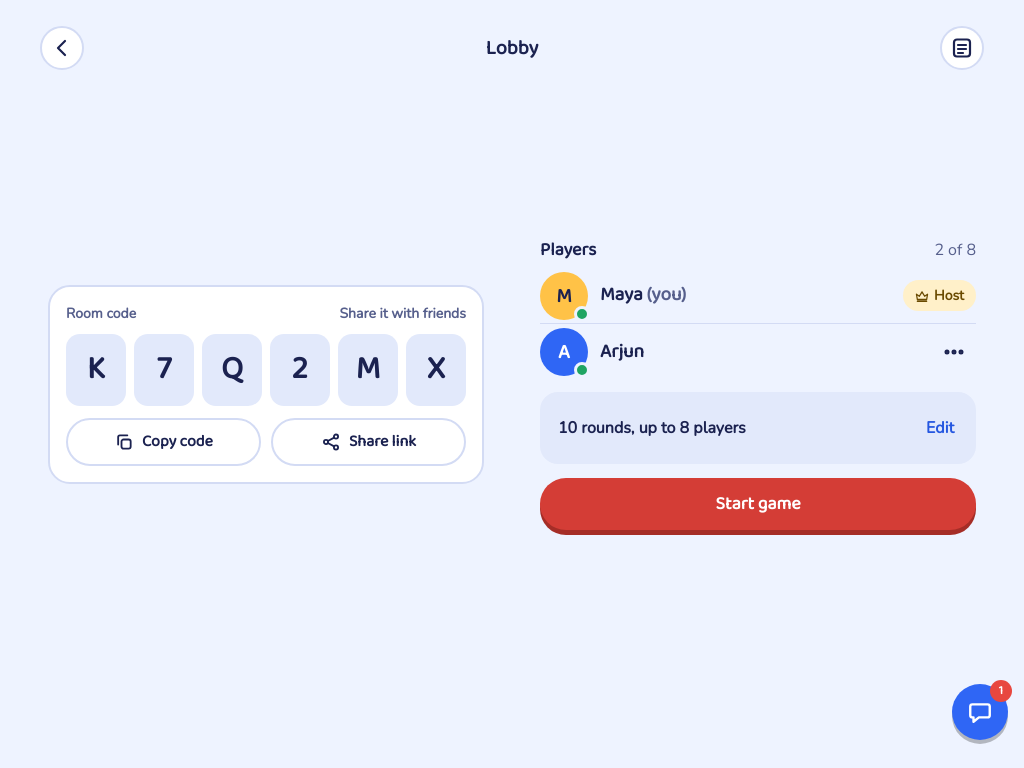
chat › report: choose a reason, add a note and send
Expected: the heading "Lobby" is shown, [486,36,538,60]
Click the button named "Open chat" at (980, 712), box [952,684,1008,740]
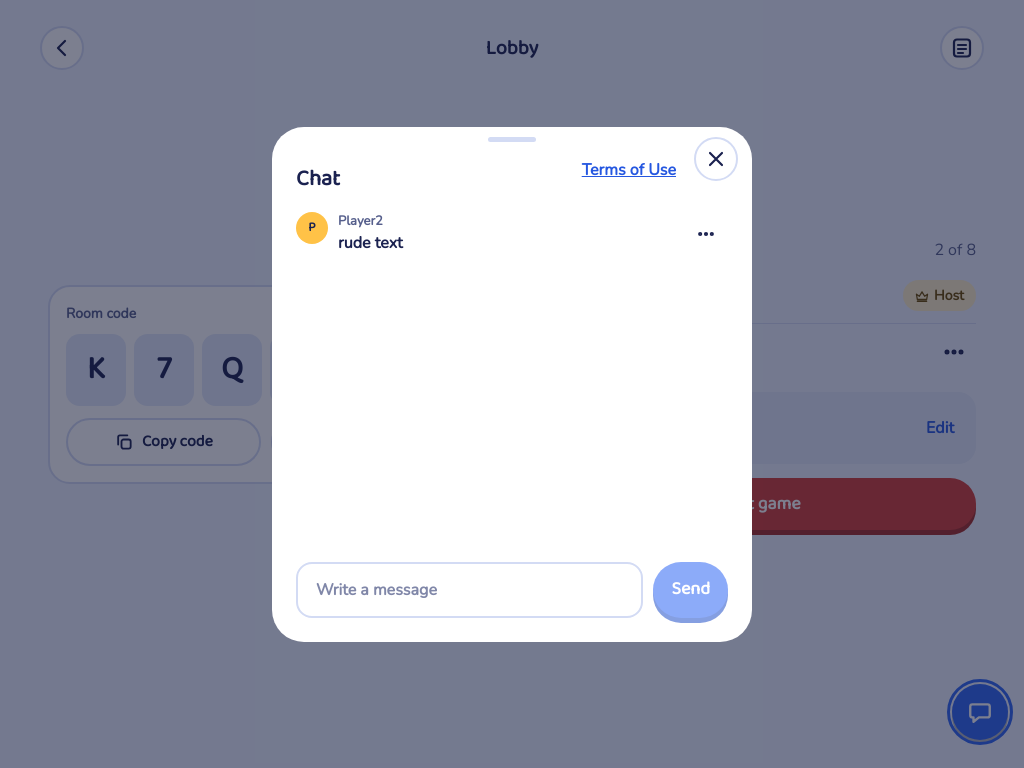
Click the button named "Actions for the message from Player2" at (706, 234), box [684,212,728,256]
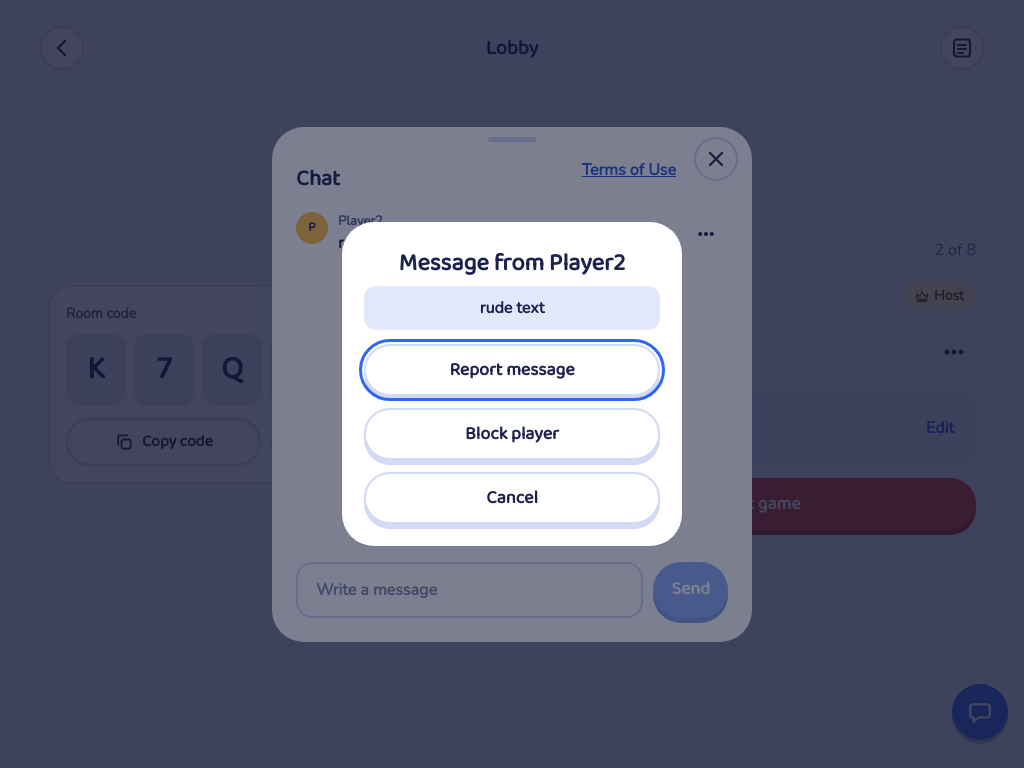
Click the button "Report message" at (512, 370), box [364,344,660,396]
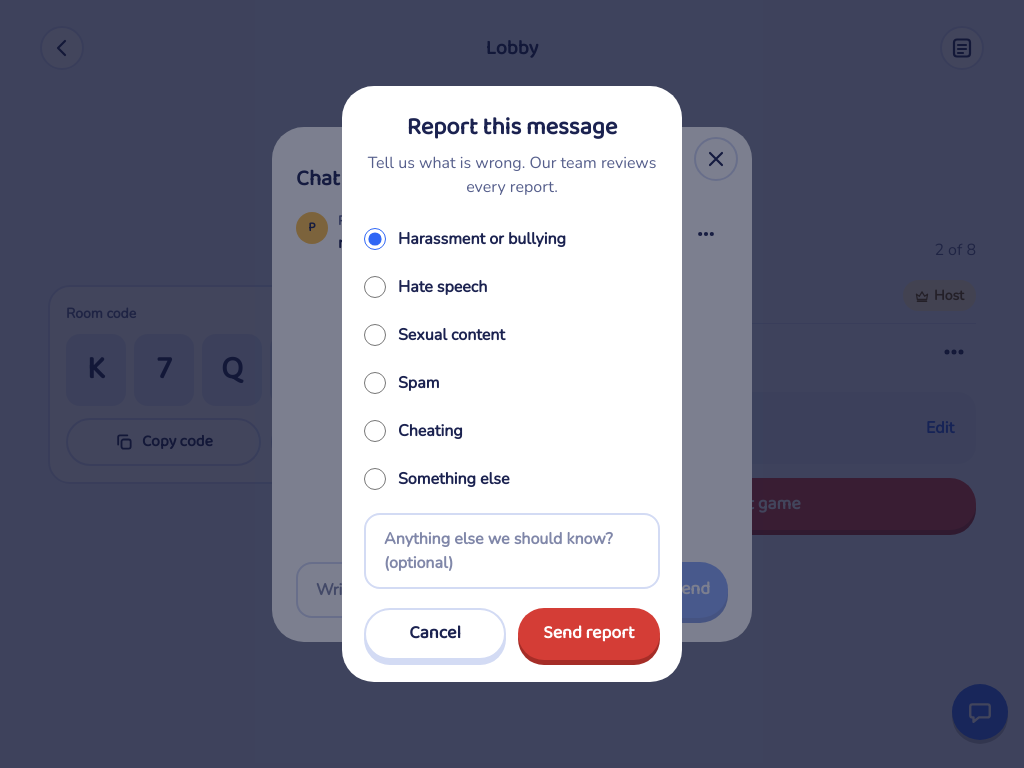
Click the radio button labelled "Hate speech" at (375, 287), box [364,276,386,298]
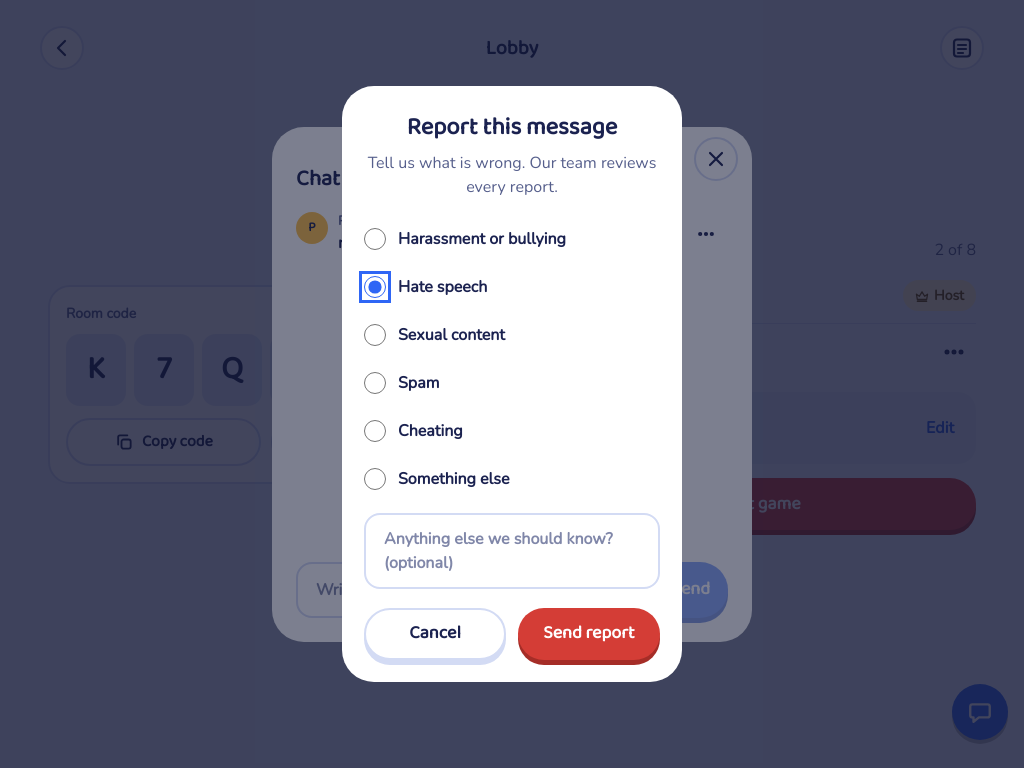
Type "please check" into the text box labelled "Anything else we should know? (optional)" at (512, 551), box [364,513,660,589]
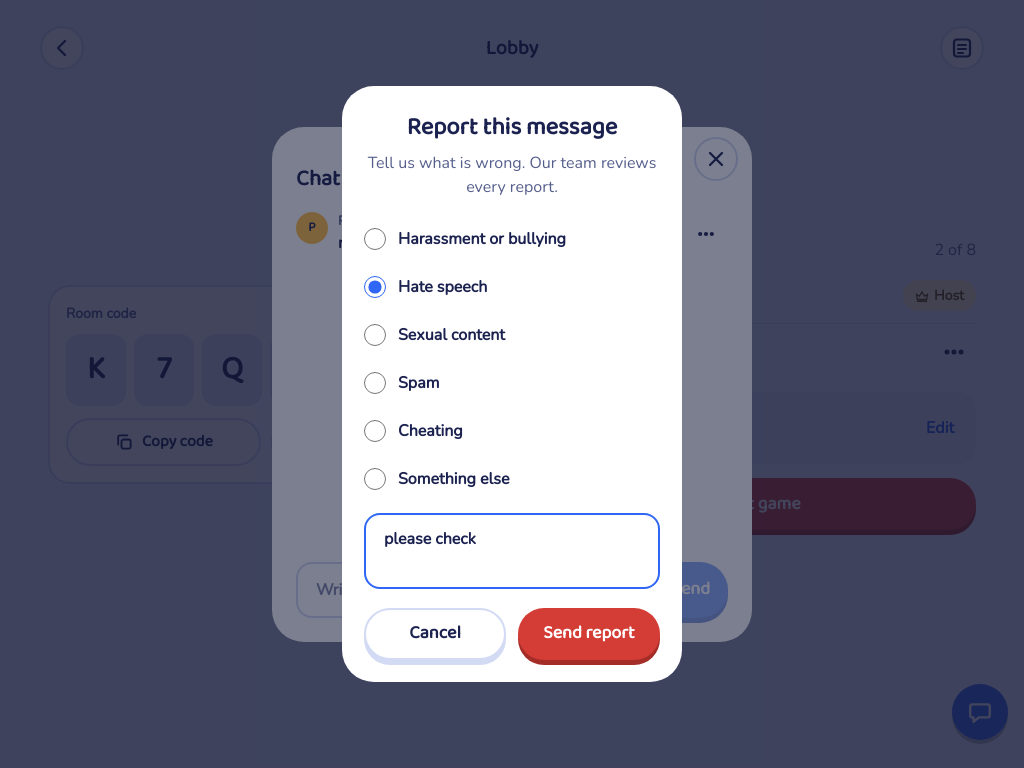
Click the button "Send report" at (589, 634), box [518,608,660,660]
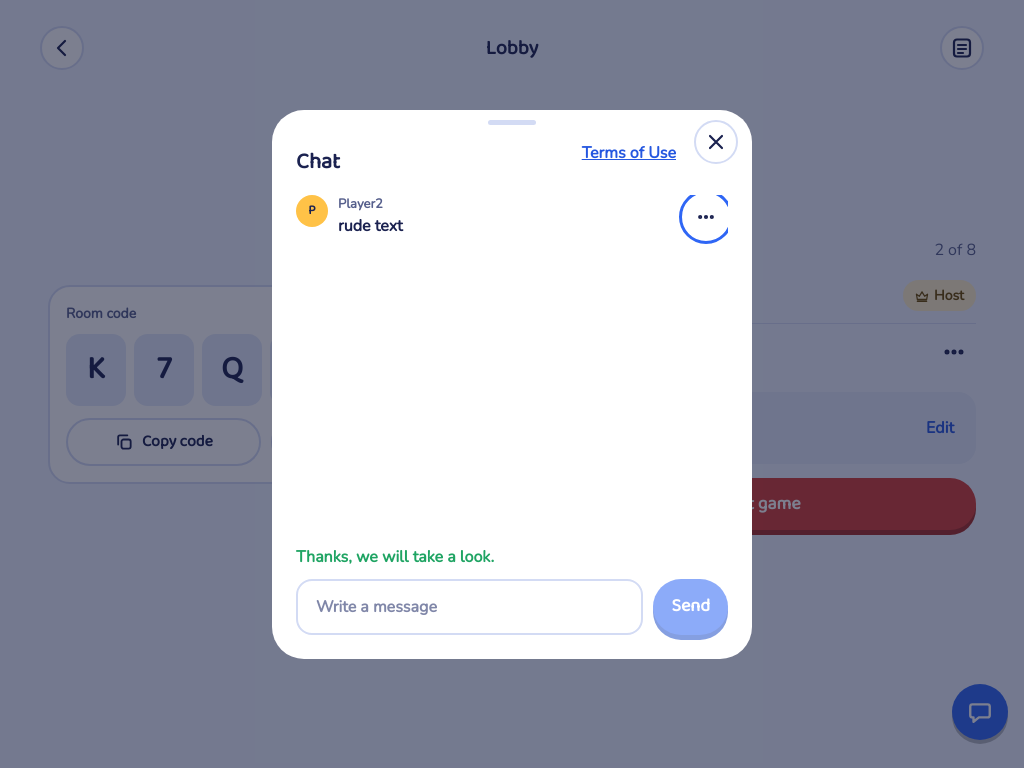
Now the text "Thanks, we will take a look." is shown, box [296,546,494,568]
